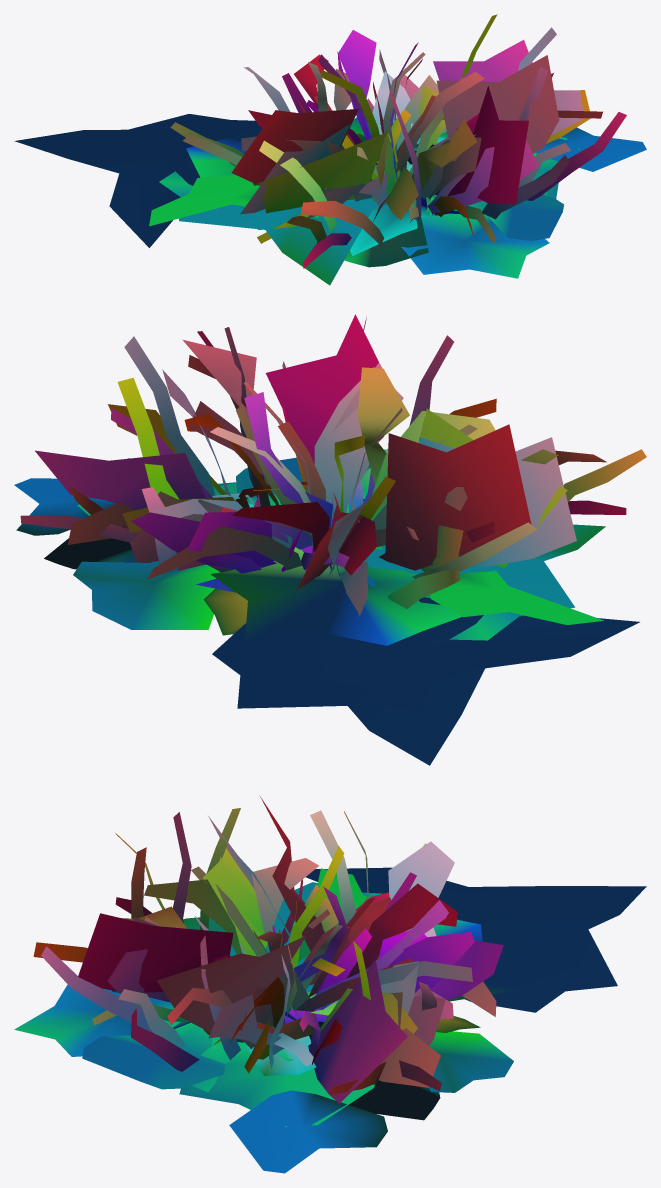
Rendered from Wild_Grass_vdilbaiia_Mid_vdilbaiia_VarF_LOD0.fbx.
The picture shows the model from 3 angles, top to bottom: view 1: azimuth 30°, elevation 25°; view 2: azimuth 150°, elevation 25°; view 3: azimuth 270°, elevation 25°; orthographic projection. The views are drawn at different scales.
Visible parts, largest first — view 1: _ttcm_VarF_LOD1; view 2: _ttcm_VarF_LOD1; view 3: _ttcm_VarF_LOD1.
Part boxes in pixels (left/top/right/bottom): _ttcm_VarF_LOD1: left=14, top=14, right=646, bottom=285; _ttcm_VarF_LOD1: left=14, top=314, right=646, bottom=765; _ttcm_VarF_LOD1: left=14, top=795, right=646, bottom=1173.
Size of the model in its own units: 78.82 by 26.26 by 73.25.
